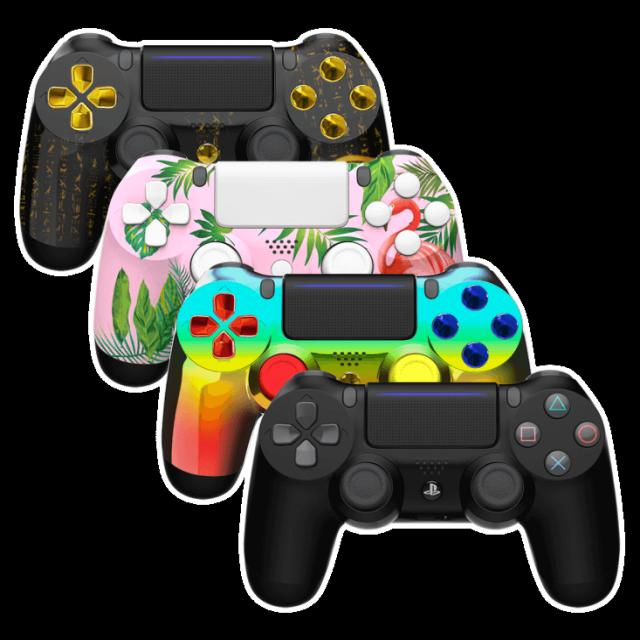ps4_controller: (35, 39, 613, 593)
